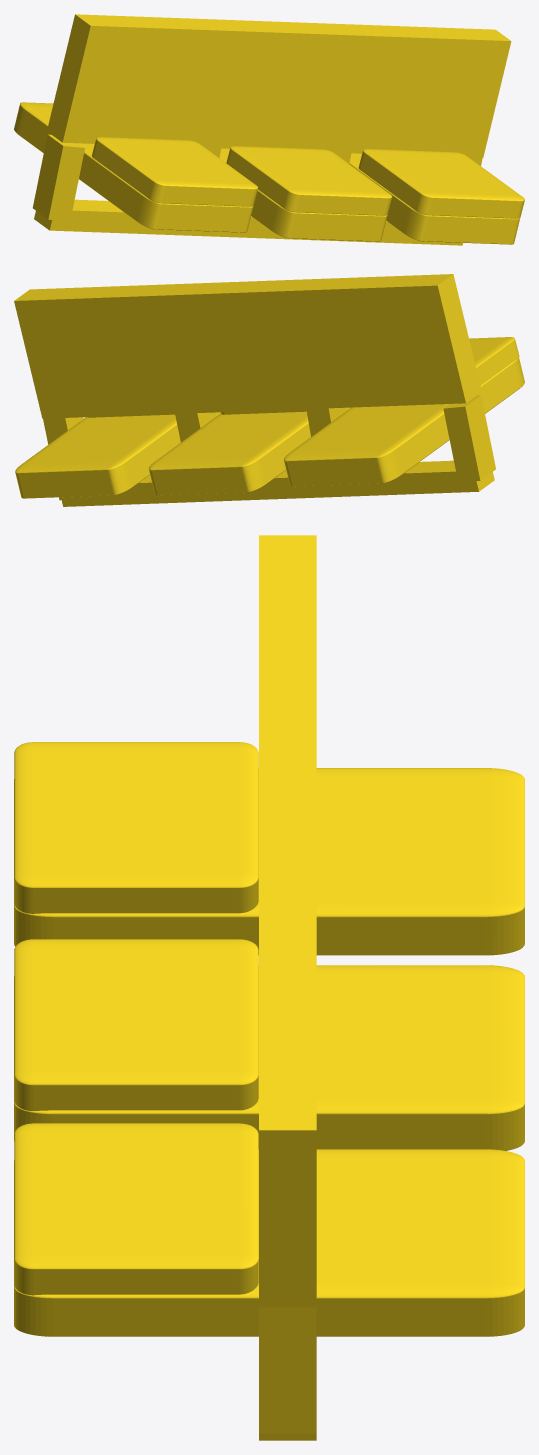
File: tinkerDrop.obj
3 views of the same model, one above another, from view 1: azimuth 30°, elevation 25°; view 2: azimuth 150°, elevation 25°; view 3: azimuth 270°, elevation 25° (orthographic). The views are drawn at different scales.
Parts seen in each view (by area): view 1: obj_0; view 2: obj_0; view 3: obj_0.
Boxes of the visible parts, x1,y1,x2,y2 form: obj_0: [14, 14, 524, 245]; obj_0: [14, 274, 524, 506]; obj_0: [14, 535, 524, 1440].
Size of the model in its own units: 85.06 by 54.51 by 44.17.
